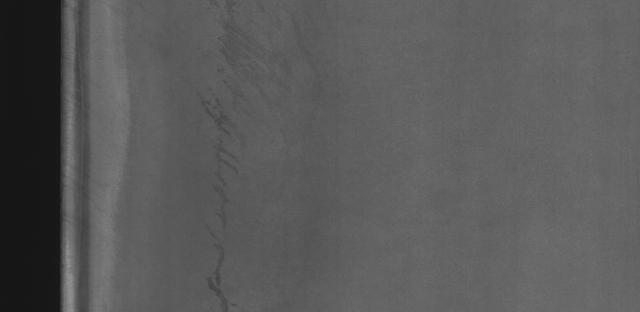water_spot: (181, 23, 283, 307)
